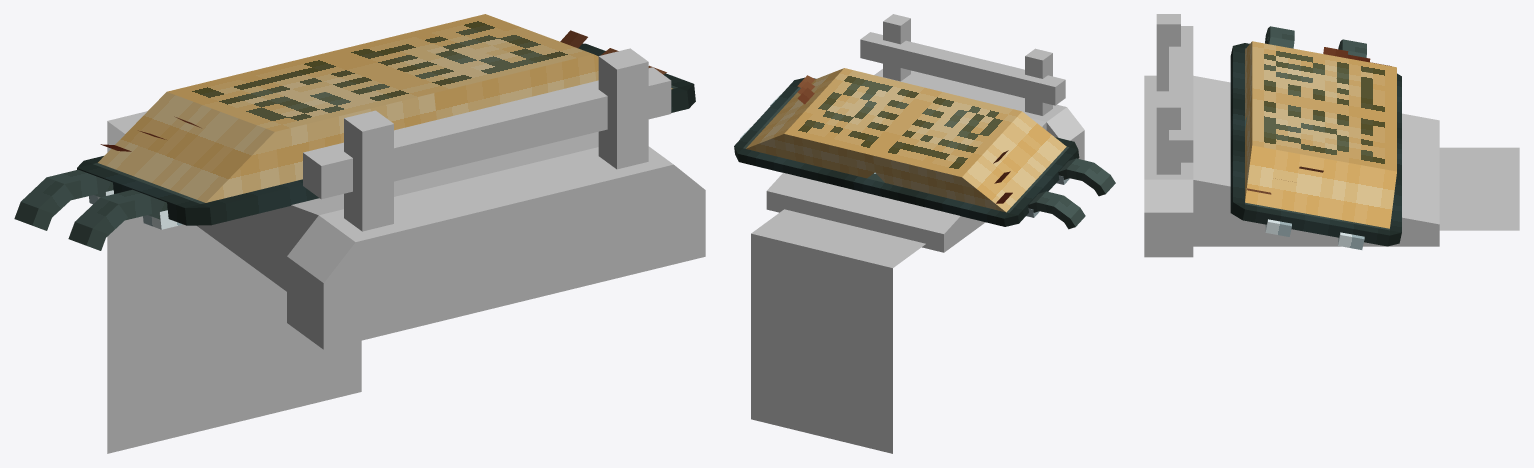
The model's file is station_codexlectern_book.obj.
3 renders of one model, left to right at view 1: azimuth 30°, elevation 25°; view 2: azimuth 150°, elevation 25°; view 3: azimuth 270°, elevation 25°, orthographic. The views are drawn at different scales.
Visible parts, largest first — view 1: CODEX_LECTERN_Cube.007, CODEX_OPEN_FLAT_Cube.015; view 2: CODEX_LECTERN_Cube.007, CODEX_OPEN_FLAT_Cube.015; view 3: CODEX_OPEN_FLAT_Cube.015, CODEX_LECTERN_Cube.007.
Part boxes in pixels (x1=…): CODEX_LECTERN_Cube.007: x1=107, y1=48, x2=705, y2=453; CODEX_OPEN_FLAT_Cube.015: x1=14, y1=14, x2=695, y2=250; CODEX_LECTERN_Cube.007: x1=751, y1=14, x2=1084, y2=453; CODEX_OPEN_FLAT_Cube.015: x1=734, y1=68, x2=1115, y2=229; CODEX_OPEN_FLAT_Cube.015: x1=1230, y1=26, x2=1401, y2=249; CODEX_LECTERN_Cube.007: x1=1144, y1=14, x2=1519, y2=257.
Bounding box in the file's own units: 1.18 × 0.9844 × 0.9531.
